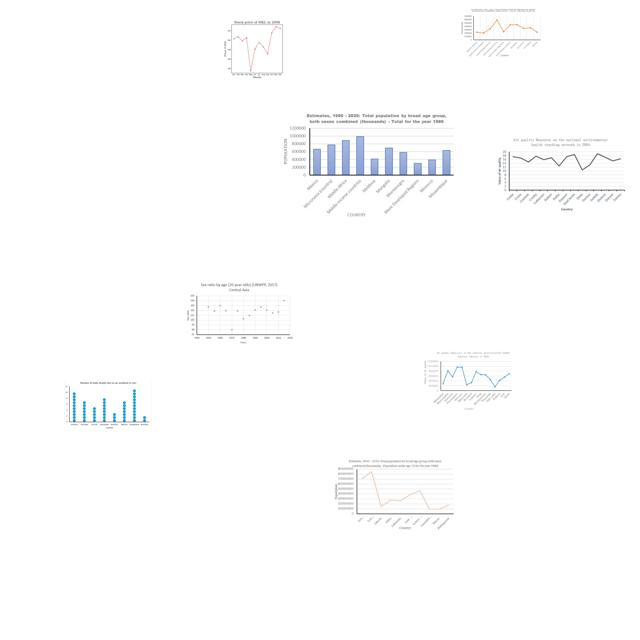Graph: (280, 110, 455, 217), (495, 135, 627, 215), (334, 458, 456, 531), (184, 281, 294, 346), (421, 349, 514, 412), (214, 17, 298, 80), (64, 380, 152, 431), (460, 8, 542, 57)
